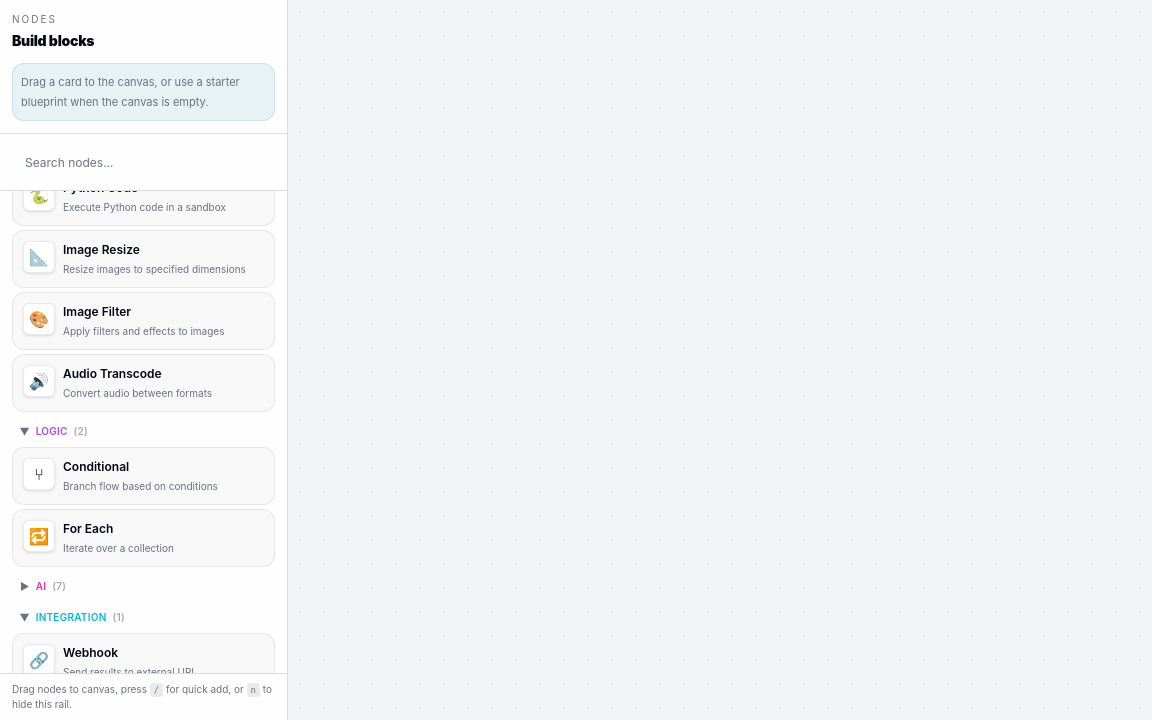
Test: NodePalette › toggles category section expansion on click
The width and height of the screenshot is (1152, 720).
(page scrolled)
Expected: the text "Conditional" is shown, [63,459,129,474]
// Click to collapse the Logic category
Click the text "Logic" at (52, 432), box [36,424,68,439]
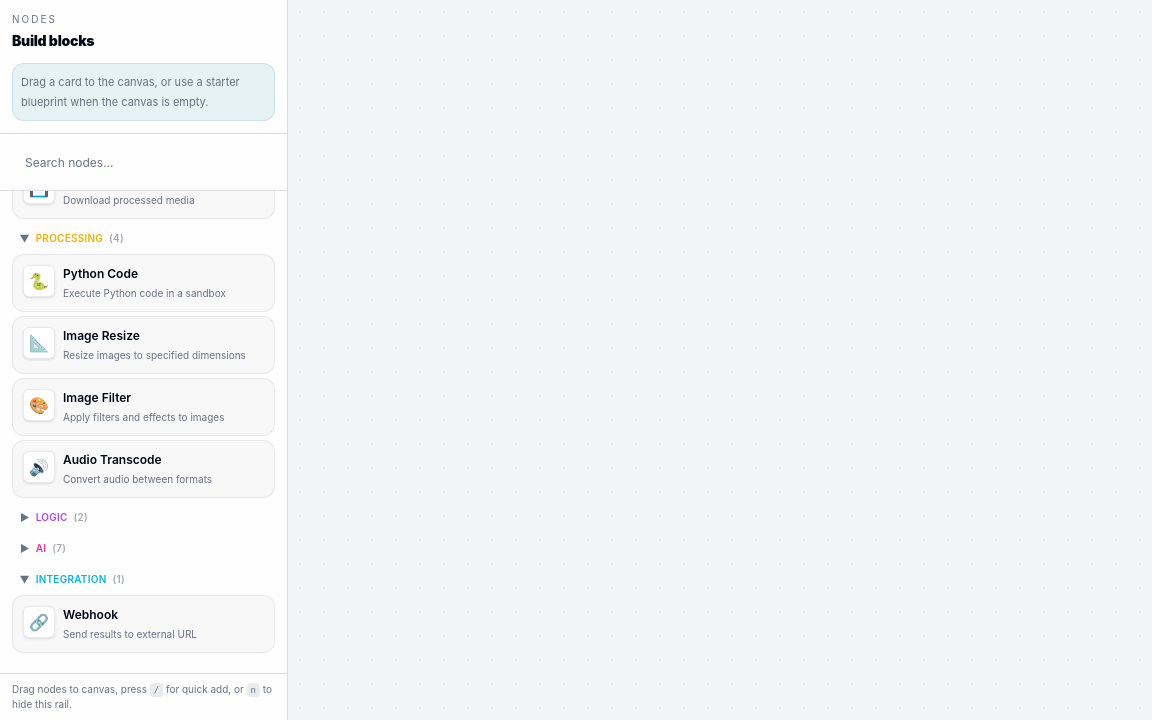
Now the text "Conditional" is gone
// Click to expand again
Click the text "Logic" at (52, 518), box [36,510,68,525]
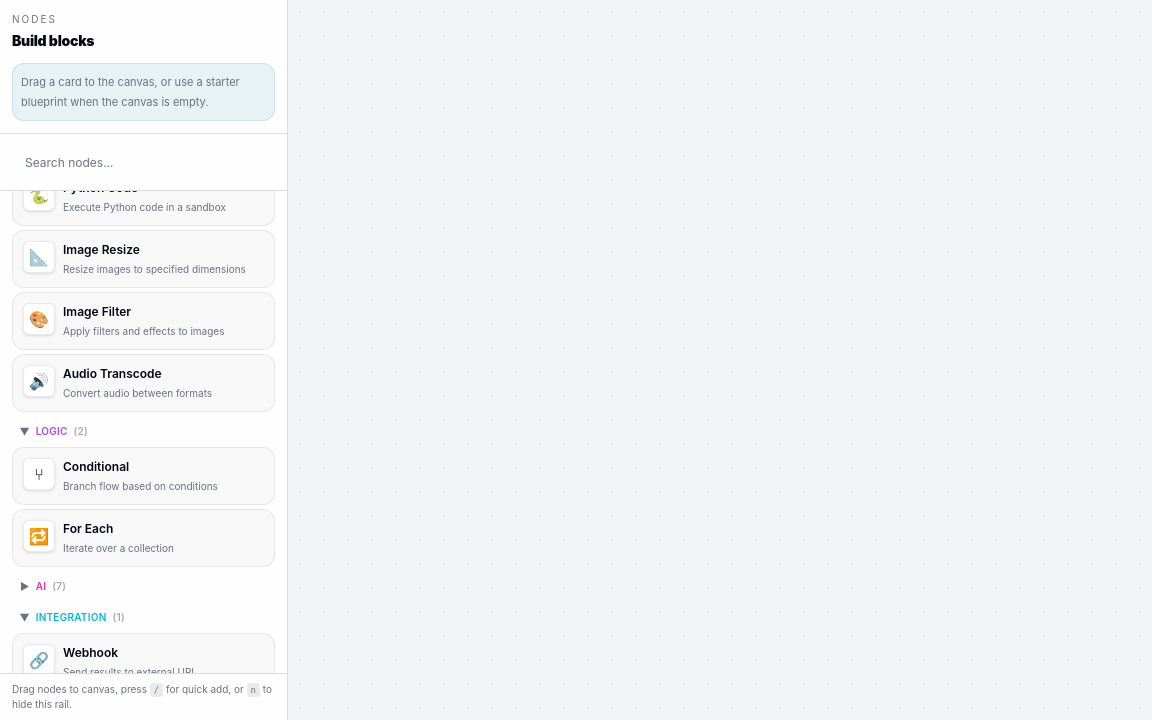
Now the text "Conditional" is shown, box [63,459,129,474]
